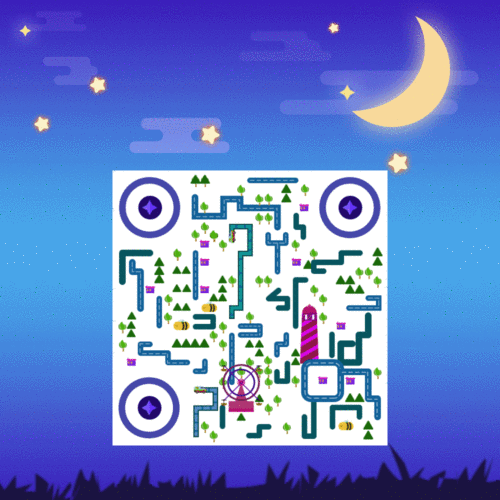QRCode: (114, 173, 386, 444)
